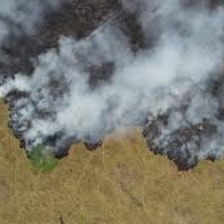incendio: (1, 34, 215, 167)
